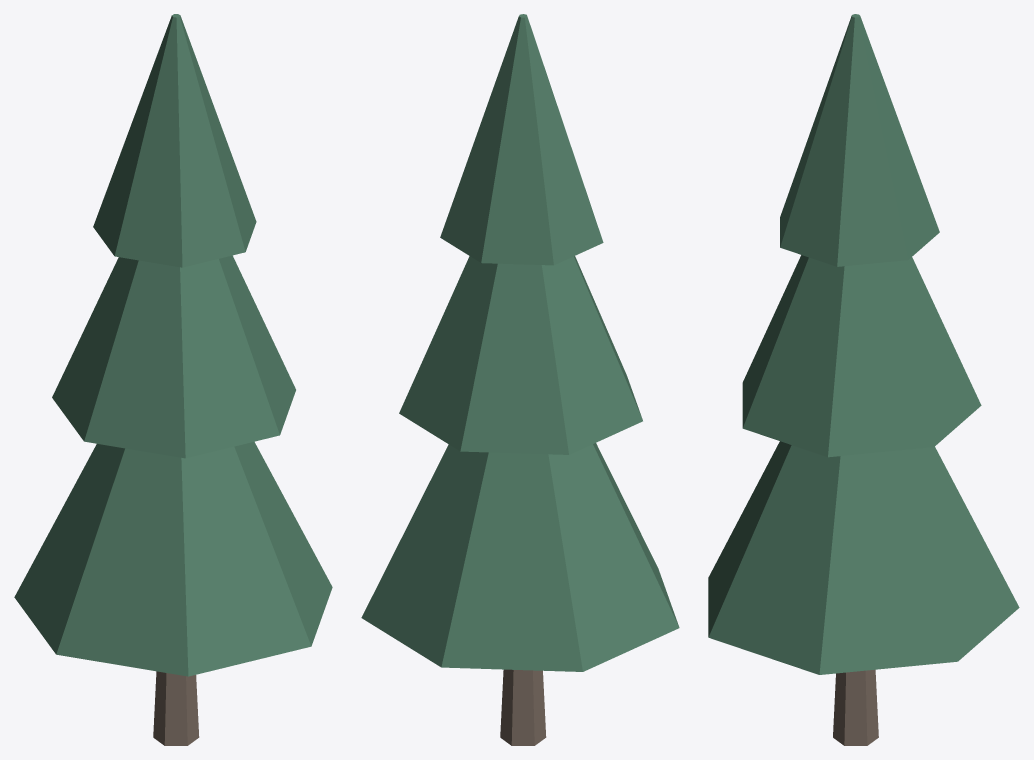
File: veg-tree-conifer.glb
The picture shows the model from 3 angles, left to right: view 1: azimuth 30°, elevation 25°; view 2: azimuth 150°, elevation 25°; view 3: azimuth 270°, elevation 25°; orthographic projection.
Parts seen in each view (by area): view 1: canopy, trunk; view 2: canopy, trunk; view 3: canopy, trunk.
Part boxes in pixels (x1,y1,x2,y2): canopy: [14, 14, 332, 676]; trunk: [153, 671, 199, 745]; canopy: [361, 14, 679, 671]; trunk: [500, 669, 546, 745]; canopy: [708, 14, 1019, 674]; trunk: [833, 669, 878, 745].
Bounding box in the file's own units: 3.61 × 9 × 3.52.
